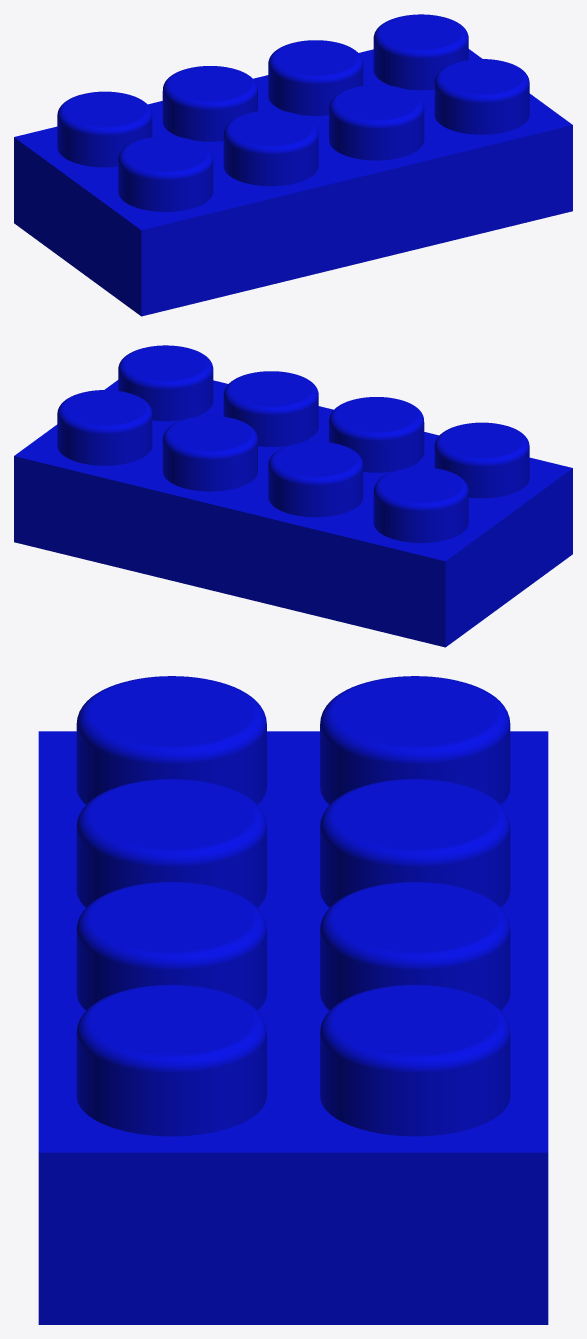
File: RectangleEight.gltf
The picture shows the model from 3 angles, top to bottom: view 1: azimuth 30°, elevation 25°; view 2: azimuth 150°, elevation 25°; view 3: azimuth 270°, elevation 25°; orthographic projection. The views are drawn at different scales.
Parts seen in each view (by area): view 1: Box 5, Box, Box 2, Cylinder 4, Cylinder 5, Cylinder 7, Cylinder 9, Cylinder 2, Cylinder 8, Cylinder 3, Cylinder 6, Box 3 (+1 smaller); view 2: Box 4, Box, Box 2, Cylinder 3, Cylinder 6, Cylinder 2, Cylinder 8, Cylinder 5, Cylinder 9, Cylinder 4, Cylinder 7, Box 3 (+1 smaller); view 3: Box 3, Box, Cylinder 9, Cylinder 8, Cylinder 5, Cylinder 2, Cylinder 4, Cylinder 3, Cylinder 7, Cylinder 6, Box 5, Box 4 (+1 smaller).
Boxes of the visible parts, <box> form: Box 5: <box>132,118,572,315</box>; Box: <box>14,49,569,246</box>; Box 2: <box>14,133,157,316</box>; Cylinder 4: <box>223,110,318,186</box>; Cylinder 5: <box>118,136,213,211</box>; Cylinder 7: <box>329,84,424,160</box>; Cylinder 9: <box>434,59,529,134</box>; Cylinder 2: <box>57,91,152,167</box>; Cylinder 8: <box>373,14,468,90</box>; Cylinder 3: <box>162,66,257,141</box>; Cylinder 6: <box>268,40,363,115</box>; Box 3: <box>468,49,572,214</box>; Box 4: <box>14,449,454,647</box>; Box: <box>19,380,572,577</box>; Box 2: <box>429,464,572,647</box>; Cylinder 3: <box>268,441,363,517</box>; Cylinder 6: <box>162,415,257,491</box>; Cylinder 2: <box>373,467,468,542</box>; Cylinder 8: <box>57,390,152,465</box>; Cylinder 5: <box>434,422,529,498</box>; Cylinder 9: <box>118,345,213,421</box>; Cylinder 4: <box>329,397,424,472</box>; Cylinder 7: <box>223,371,318,446</box>; Box 3: <box>14,380,118,545</box>; Box 3: <box>38,1136,548,1324</box>; Box: <box>38,731,548,1186</box>; Cylinder 9: <box>76,984,266,1136</box>; Cylinder 8: <box>320,984,510,1136</box>; Cylinder 5: <box>76,676,266,804</box>; Cylinder 2: <box>320,676,510,804</box>; Cylinder 4: <box>76,779,266,907</box>; Cylinder 3: <box>320,779,510,907</box>; Cylinder 7: <box>76,882,266,1010</box>; Cylinder 6: <box>320,882,510,1010</box>; Box 5: <box>38,731,76,1324</box>; Box 4: <box>510,731,548,1324</box>.
Size of the model in its own units: 0.131 by 0.036 by 0.067.
